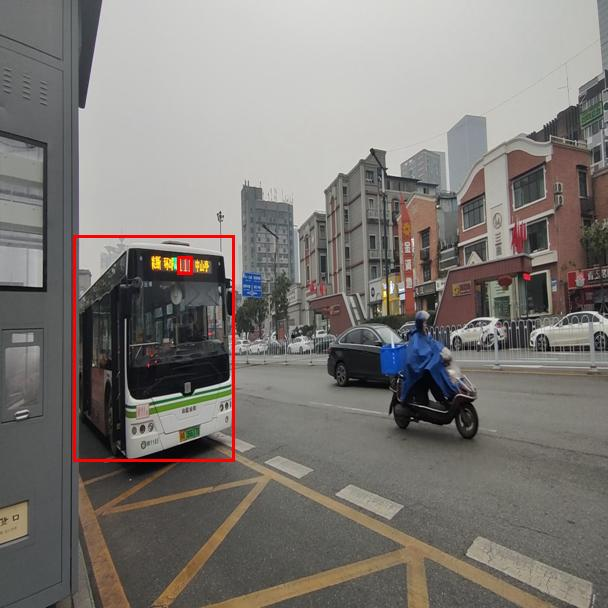bus: (73, 235, 234, 461)
screen: (177, 256, 192, 274)
